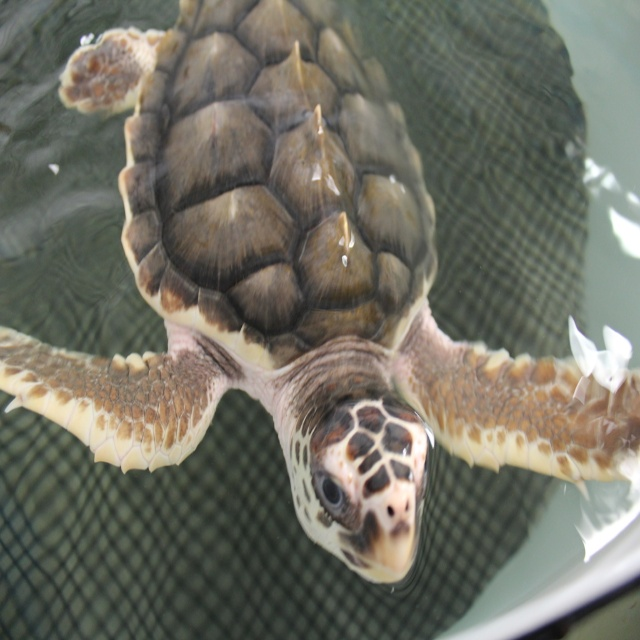Sea turtle: (0, 0, 640, 589)
